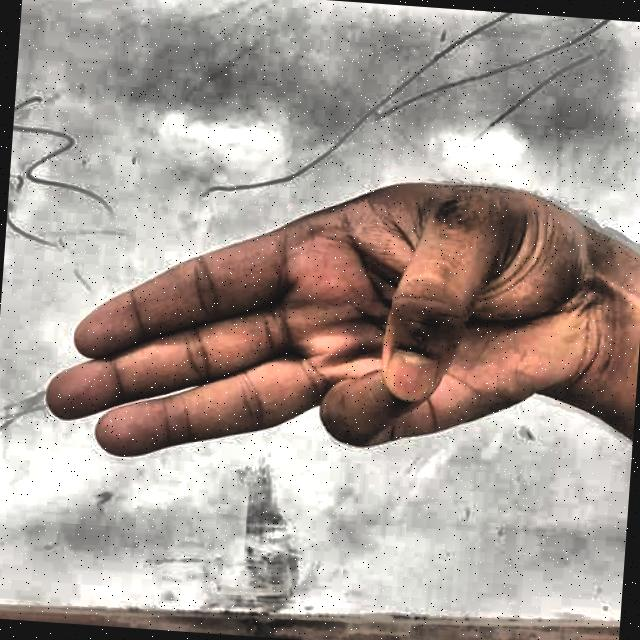Ma: (13, 142, 626, 530)
